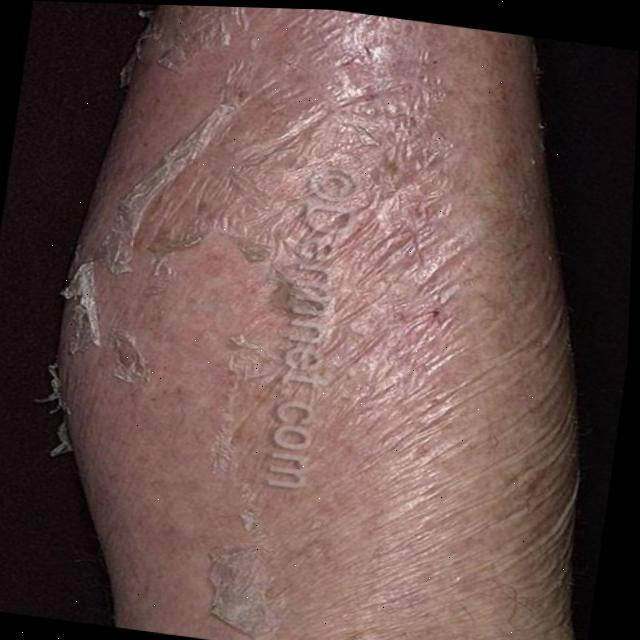Eczema: (0, 20, 495, 640)
